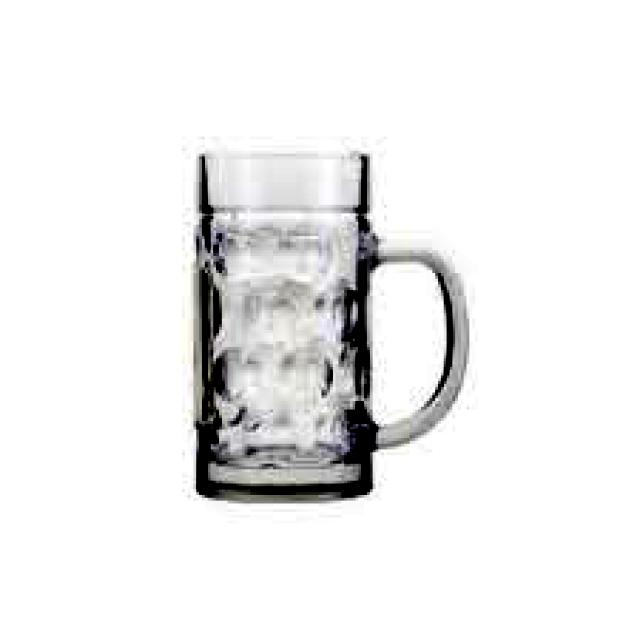Glass: (194, 141, 476, 509)
